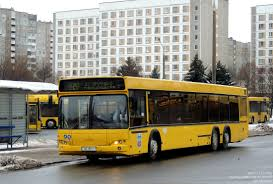bus: (56, 76, 247, 162), (247, 97, 270, 124)
